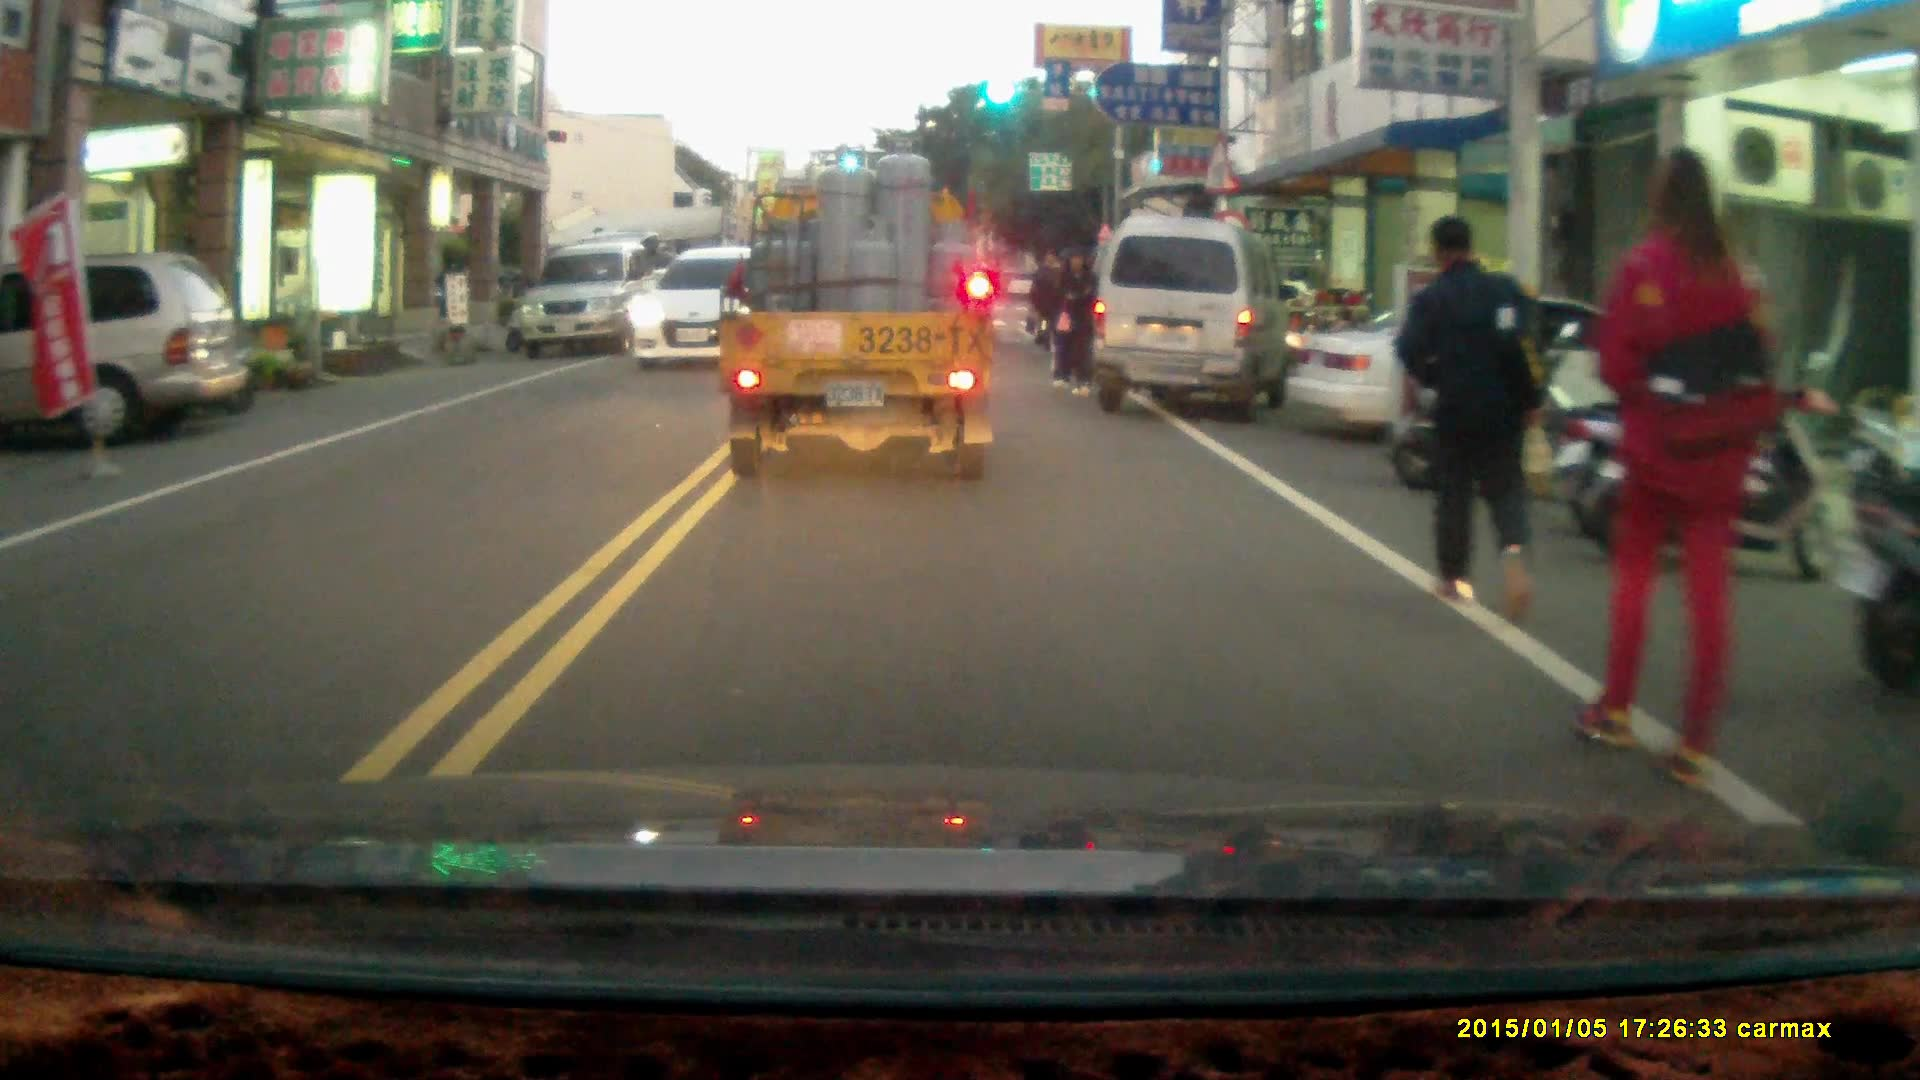pedestrian: (1568, 145, 1783, 793), (1394, 213, 1544, 620), (1052, 245, 1094, 395), (1025, 251, 1069, 354)
vehicle: (720, 184, 998, 491), (1291, 299, 1725, 464), (1, 250, 252, 442), (1093, 215, 1295, 422), (509, 242, 665, 357), (625, 245, 755, 372)
